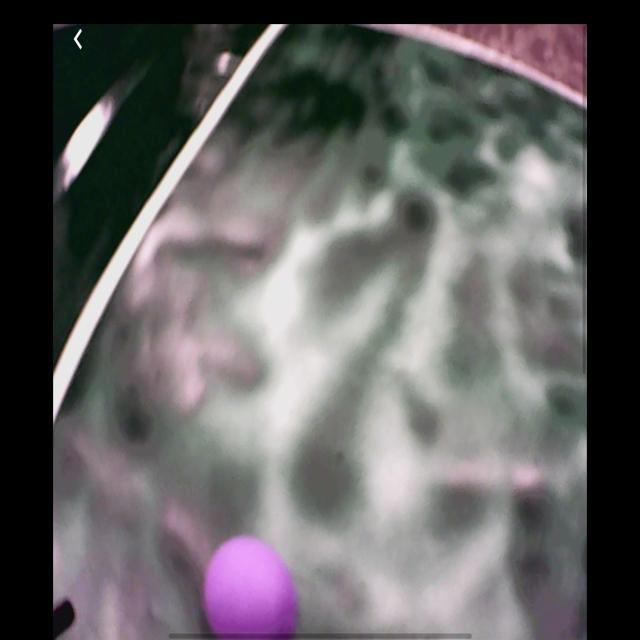ball: (203, 535, 300, 639)
